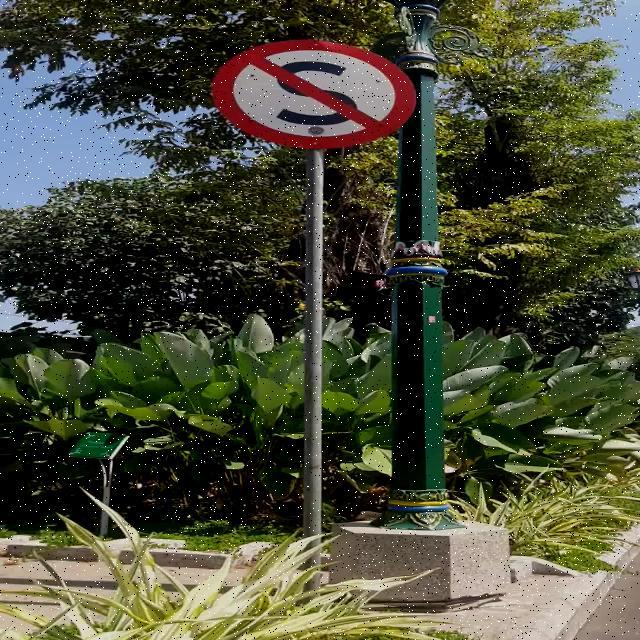Dilarang Berhenti: (212, 40, 416, 148)
